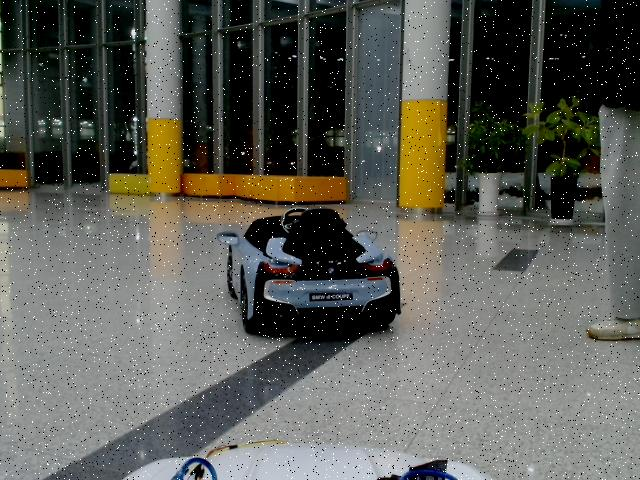car: (216, 208, 403, 334)
